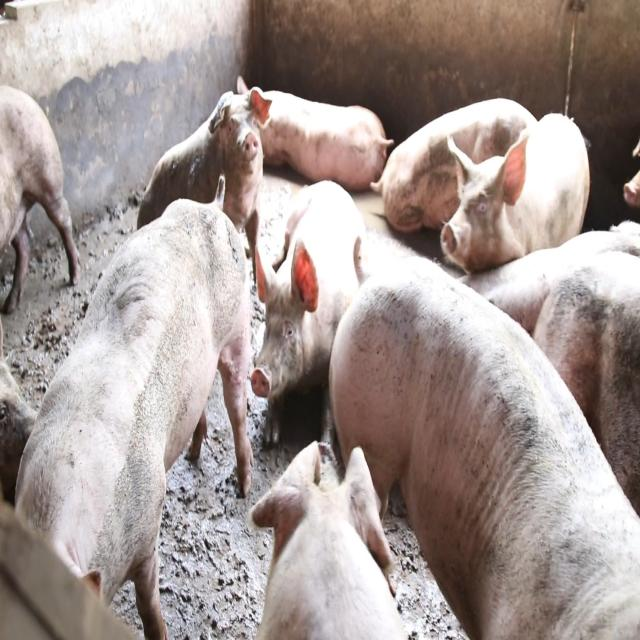pig: (16, 234, 238, 601), (431, 105, 614, 268), (246, 190, 364, 422), (161, 77, 277, 210)
